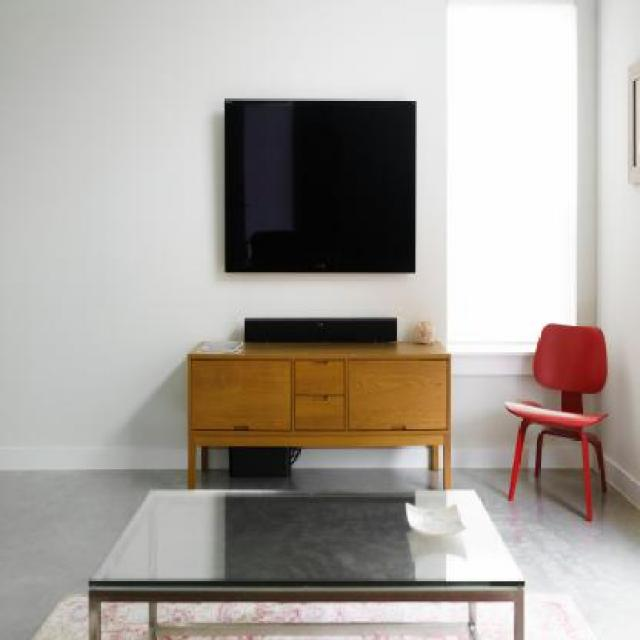Floor: (451, 468, 640, 639), (0, 470, 188, 640), (197, 466, 444, 489)
